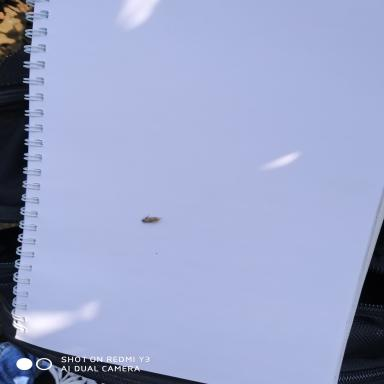pbw: (140, 214, 162, 224)
